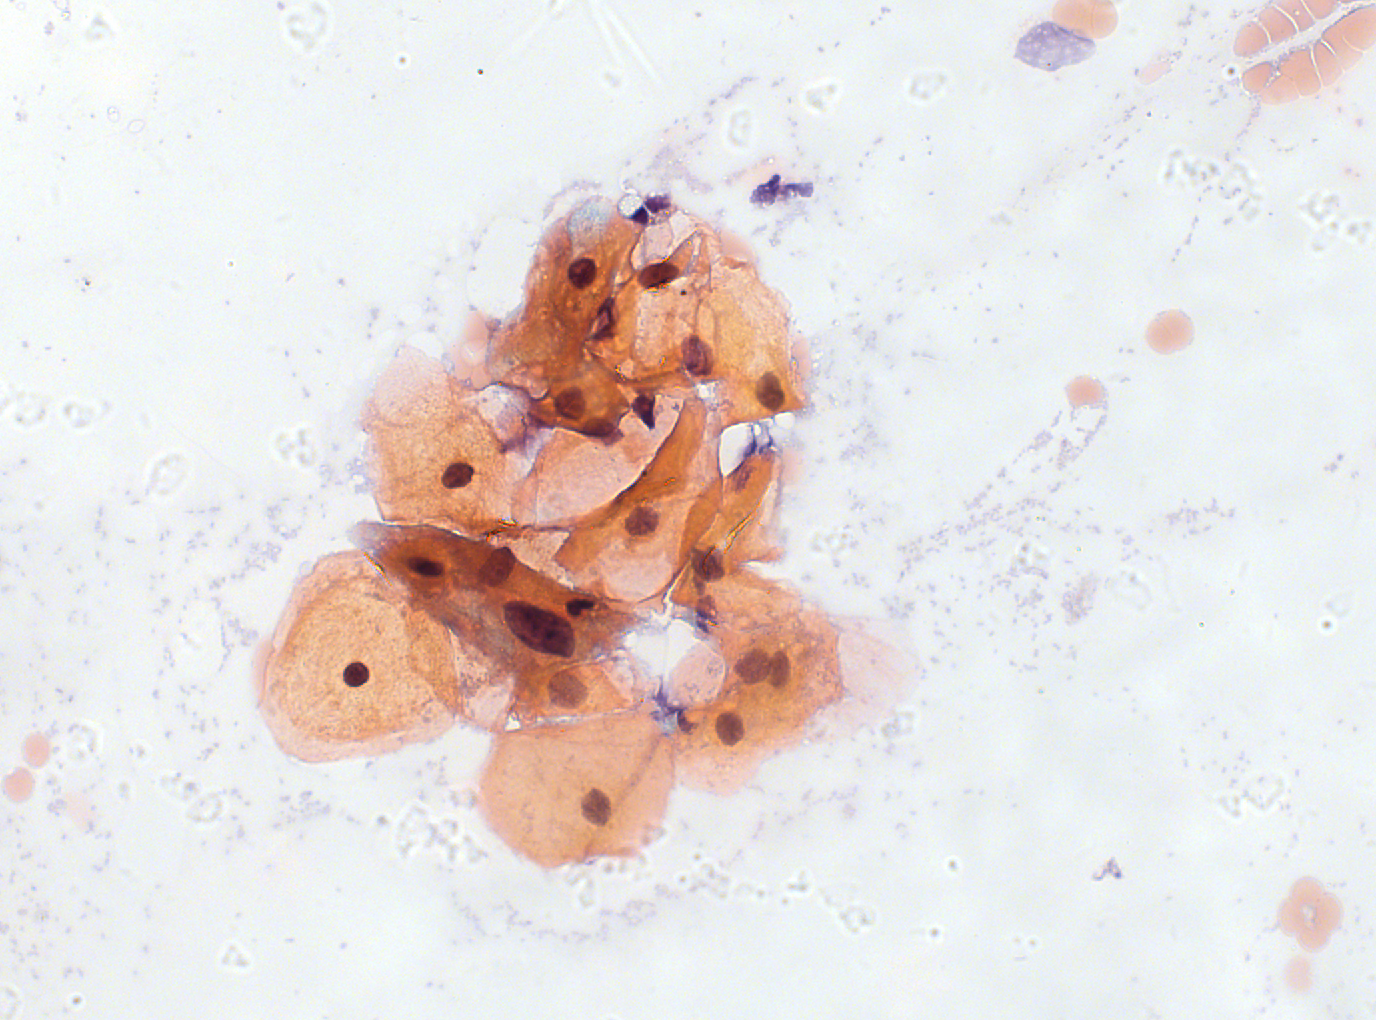Abnormal_Nucleus: (500, 601, 577, 660)
Normal_Nucleus: (476, 544, 520, 586), (545, 671, 589, 710), (579, 787, 614, 830), (733, 644, 771, 684), (678, 335, 714, 377), (752, 369, 786, 412), (685, 544, 724, 581), (588, 297, 619, 342), (633, 262, 680, 291), (548, 384, 587, 418), (624, 502, 659, 540), (629, 386, 657, 433), (440, 459, 479, 492), (565, 256, 597, 290), (713, 711, 744, 747), (400, 553, 444, 577), (339, 659, 373, 689), (771, 648, 791, 694)
